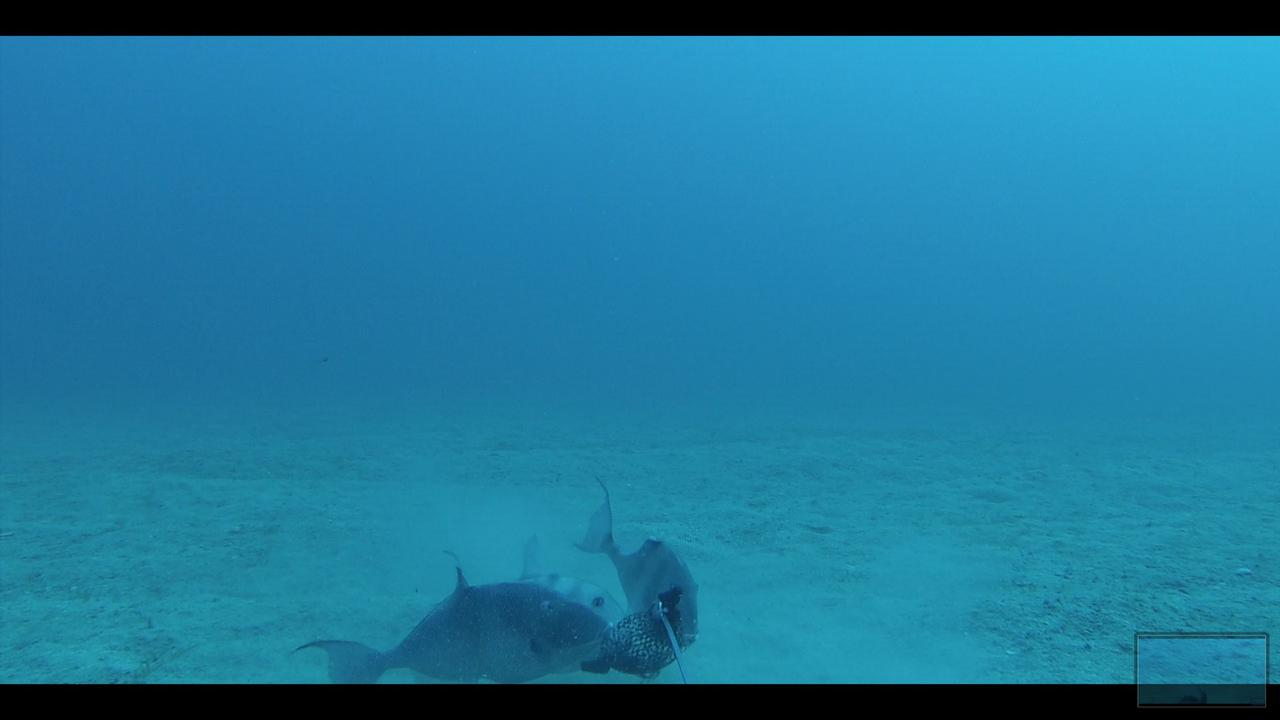balistes: (282, 547, 614, 684), (571, 472, 701, 650), (437, 532, 626, 624)
